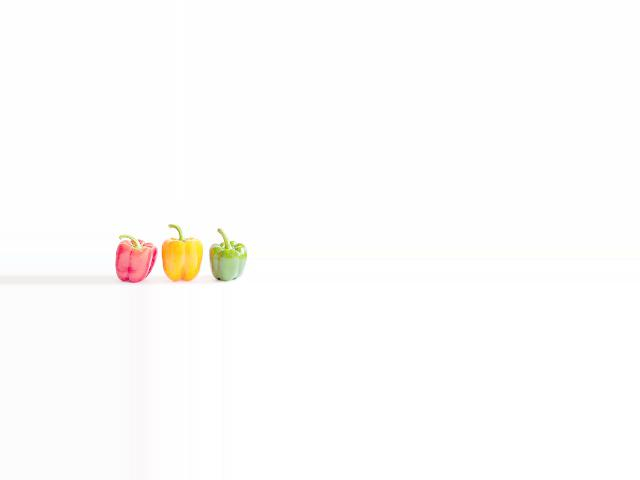bell_pepper: (112, 224, 158, 281)
